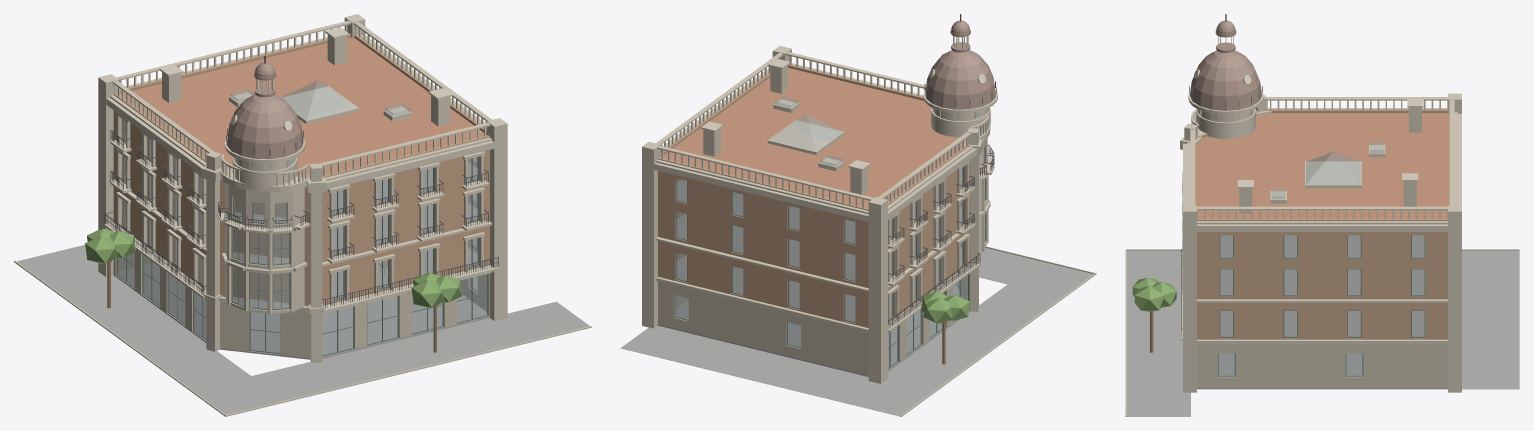
Rendered from clay-chamfer-corner-dome-block-clay-v004.glb.
3 views of the same model, side by side, from view 1: azimuth 30°, elevation 25°; view 2: azimuth 150°, elevation 25°; view 3: azimuth 270°, elevation 25° (orthographic). The views are drawn at different scales.
Visible parts, largest first — view 1: CLAY_STONE, CLAY_FOUNDATION, CLAY_WALL, CLAY_MEMBRANE, CLAY_GLASS, CLAY_RUSTIC, CLAY_TRIM, CLAY_HARDWARE, CLAY_COPPER, CLAY_PALE, CLAY_FLOOR, CLAY_PLANTING; view 2: CLAY_STONE, CLAY_WALL, CLAY_FOUNDATION, CLAY_MEMBRANE, CLAY_RUSTIC, CLAY_GLASS, CLAY_COPPER, CLAY_FLOOR, CLAY_PALE, CLAY_TRIM, CLAY_HARDWARE, CLAY_PLANTING; view 3: CLAY_WALL, CLAY_MEMBRANE, CLAY_STONE, CLAY_FOUNDATION, CLAY_RUSTIC, CLAY_GLASS, CLAY_FLOOR, CLAY_COPPER, CLAY_PALE, CLAY_TRIM, CLAY_PLANTING.
Part boxes in pixels (box(x1,y1,x2,y2)): CLAY_STONE: box(14, 14, 591, 416); CLAY_FOUNDATION: box(17, 245, 590, 416); CLAY_WALL: box(113, 33, 489, 306); CLAY_MEMBRANE: box(120, 37, 484, 175); CLAY_GLASS: box(118, 80, 487, 354); CLAY_RUSTIC: box(113, 250, 489, 357); CLAY_TRIM: box(116, 119, 488, 356); CLAY_HARDWARE: box(104, 55, 498, 308); CLAY_COPPER: box(226, 62, 303, 159); CLAY_PALE: box(114, 25, 486, 185); CLAY_FLOOR: box(124, 133, 477, 312); CLAY_PLANTING: box(85, 228, 462, 307); CLAY_STONE: box(642, 46, 1096, 416); CLAY_WALL: box(658, 64, 970, 327); CLAY_FOUNDATION: box(621, 248, 1094, 416); CLAY_MEMBRANE: box(661, 68, 965, 207); CLAY_RUSTIC: box(658, 273, 970, 375); CLAY_GLASS: box(675, 70, 989, 367); CLAY_COPPER: box(925, 20, 995, 109); CLAY_FLOOR: box(676, 169, 961, 321); CLAY_PALE: box(661, 35, 989, 208); CLAY_TRIM: box(674, 146, 985, 369); CLAY_HARDWARE: box(888, 14, 996, 328); CLAY_PLANTING: box(921, 292, 969, 323); CLAY_WALL: box(1197, 109, 1447, 339); CLAY_MEMBRANE: box(1195, 113, 1449, 218); CLAY_STONE: box(1125, 91, 1519, 416); CLAY_FOUNDATION: box(1126, 251, 1519, 416); CLAY_RUSTIC: box(1197, 344, 1447, 387); CLAY_GLASS: box(1194, 71, 1424, 375); CLAY_FLOOR: box(1220, 235, 1424, 336); CLAY_COPPER: box(1190, 20, 1261, 110); CLAY_PALE: box(1191, 36, 1447, 219); CLAY_TRIM: box(1218, 235, 1425, 376); CLAY_PLANTING: box(1132, 278, 1176, 311).
Bounding box in the file's own units: 36 × 28.08 × 36.
